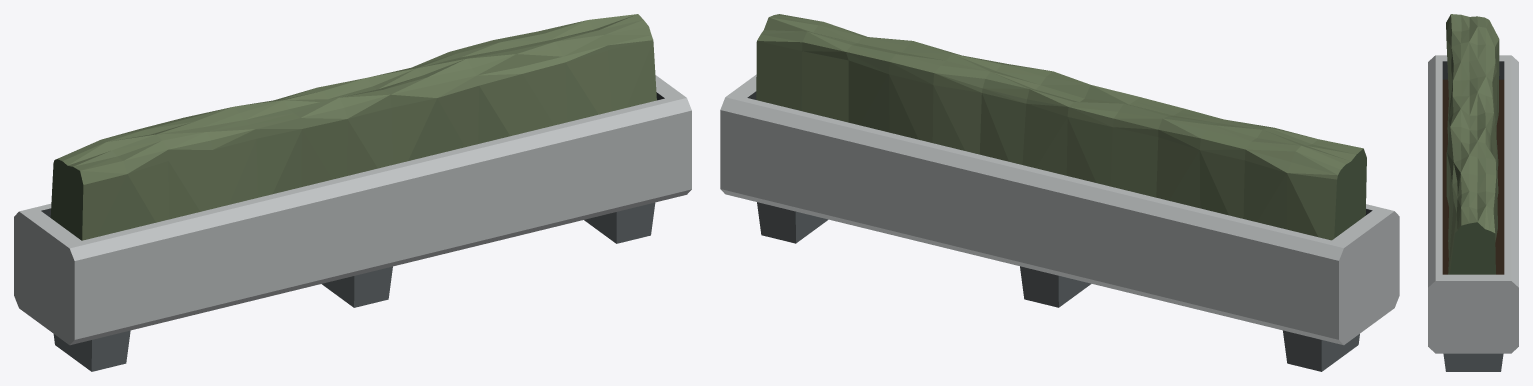
The model's file is planter-trough-divider-1b0ead.glb.
3 renders of one model, left to right at view 1: azimuth 30°, elevation 25°; view 2: azimuth 150°, elevation 25°; view 3: azimuth 270°, elevation 25°, orthographic. The views are drawn at different scales.
Parts seen in each view (by area): view 1: planter-trough-divider; view 2: planter-trough-divider; view 3: planter-trough-divider.
Part boxes in pixels (x1=…): planter-trough-divider: x1=14, y1=14, x2=691, y2=371; planter-trough-divider: x1=720, y1=14, x2=1399, y2=371; planter-trough-divider: x1=1428, y1=14, x2=1518, y2=371.
Size of the model in its own units: 2 by 0.6396 by 0.34.
